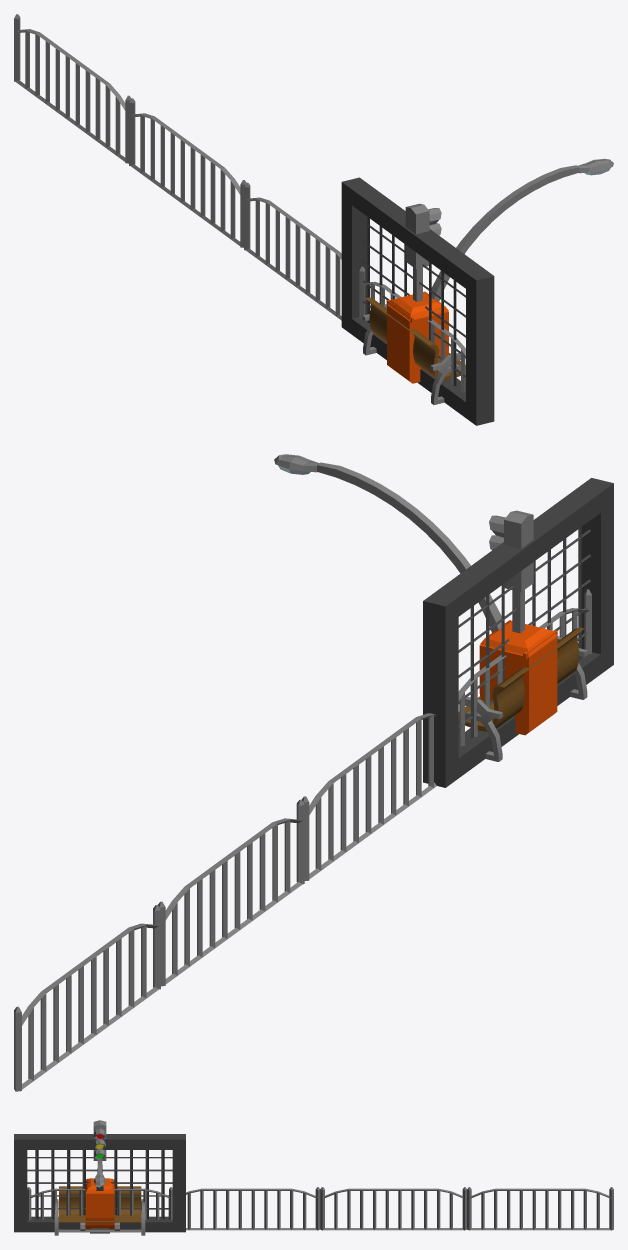
The model's file is Probs.fbx.
3 views of the same model, one above another, from view 1: azimuth 30°, elevation 25°; view 2: azimuth 150°, elevation 25°; view 3: azimuth 270°, elevation 25° (orthographic). The views are drawn at different scales.
Visible parts, largest first — view 1: Fences, Window, Copkutusu, Seat, SokakDiregi, TrafficLamp; view 2: Fences, Window, Copkutusu, Seat, SokakDiregi, TrafficLamp; view 3: Fences, Window, Seat, Copkutusu, TrafficLamp, SokakDiregi.
Boxes of the visible parts, x1,y1,x2,y2 form: Fences: (14,14,465,392); Window: (341,177,494,425); Copkutusu: (386,291,448,383); Seat: (362,297,465,404); SokakDiregi: (428,158,613,301); TrafficLamp: (405,203,441,301); Fences: (14,589,591,1091); Window: (423,478,613,787); Copkutusu: (479,620,557,735); Seat: (458,627,587,761); SokakDiregi: (274,454,505,632); TrafficLamp: (489,510,533,633); Fences: (27,1187,613,1230); Window: (14,1134,185,1232); Seat: (54,1186,145,1235); Copkutusu: (80,1178,119,1232); TrafficLamp: (93,1120,106,1160); SokakDiregi: (90,1159,109,1233).
Size of the model in its own units: 719 by 540 by 2701.
